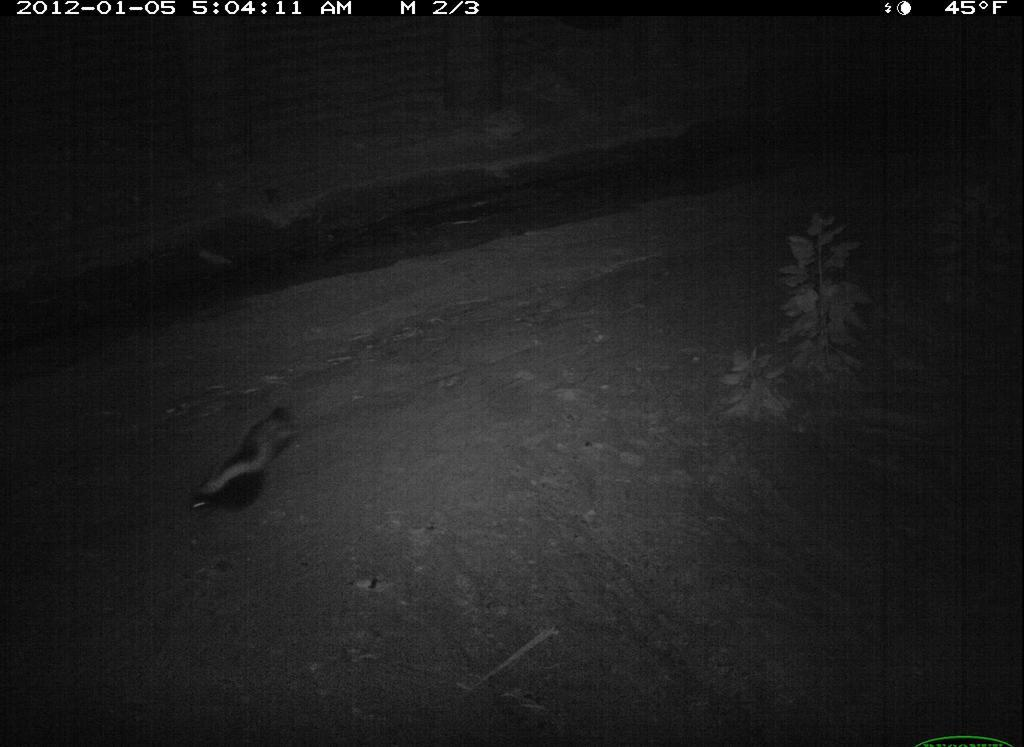skunk: (178, 396, 319, 537)
